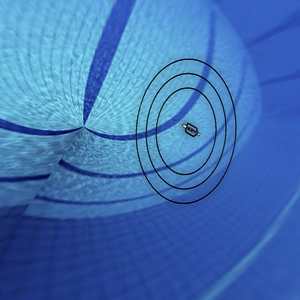circle: (121, 46, 248, 215)
submarine: (174, 113, 205, 148)
